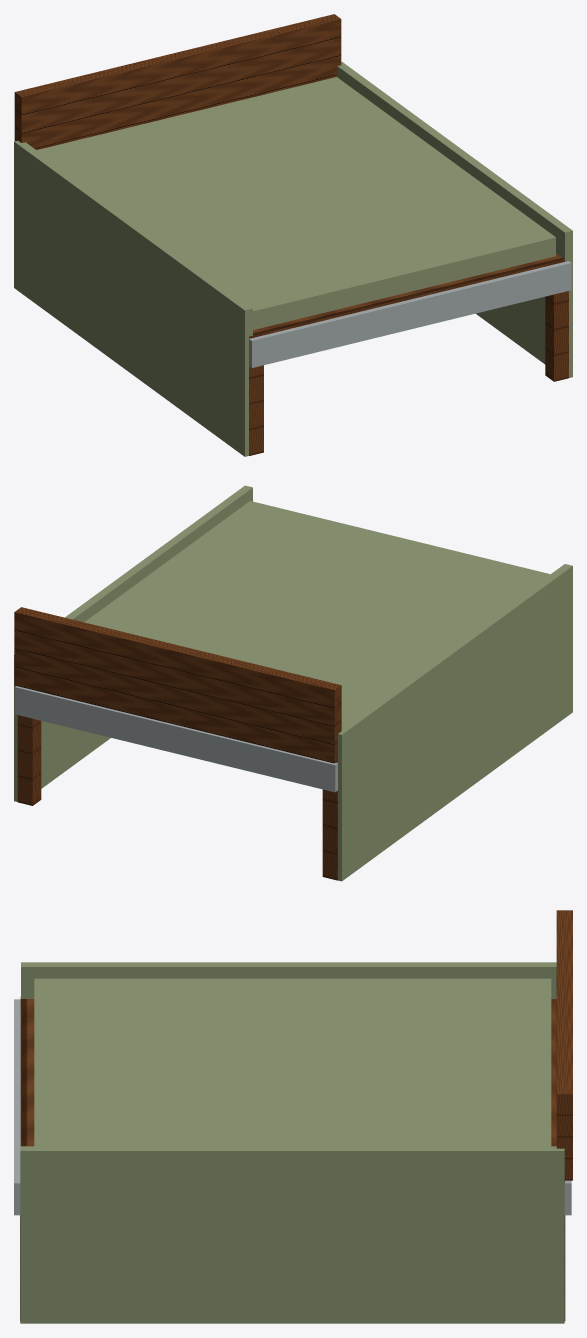
The model's file is prehistoric-survivor-settlement-raised-family-sleep-ba-defac7d5__23211.glb.
3 renders of one model, top to bottom at view 1: azimuth 30°, elevation 25°; view 2: azimuth 150°, elevation 25°; view 3: azimuth 270°, elevation 25°, orthographic. The views are drawn at different scales.
Visible parts, largest first — view 1: raised-family-sleep-bay; view 2: raised-family-sleep-bay; view 3: raised-family-sleep-bay.
Boxes of the visible parts, x1,y1,x2,y2 form: raised-family-sleep-bay: (14,14,572,456); raised-family-sleep-bay: (14,485,572,881); raised-family-sleep-bay: (14,910,572,1323).
Size of the model in its own units: 1.64 by 0.92 by 2.06.
Materials: 3 (1 with a texture image).
